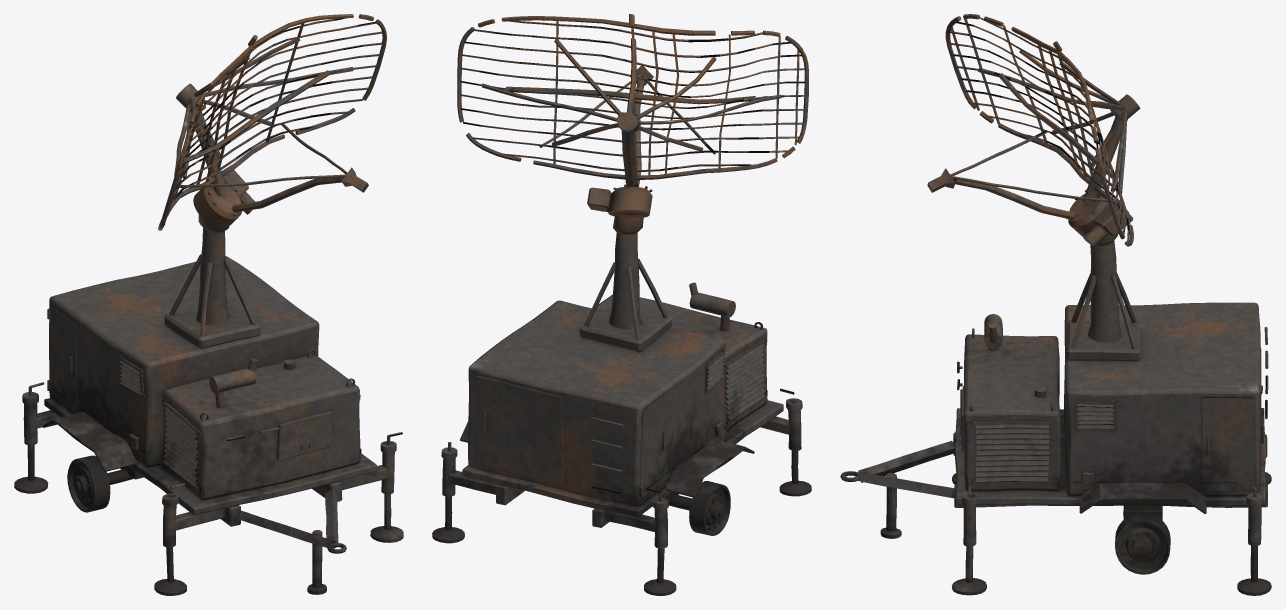
Rendered from Wreck_Radar.fbx.
3 views of the same model, side by side, from view 1: azimuth 30°, elevation 25°; view 2: azimuth 150°, elevation 25°; view 3: azimuth 270°, elevation 25° (orthographic). The views are drawn at different scales.
Parts seen in each view (by area): view 1: Wreck_Radar_Mesh; view 2: Wreck_Radar_Mesh; view 3: Wreck_Radar_Mesh.
Boxes of the visible parts, left/top/right/bottom form: Wreck_Radar_Mesh: left=14, top=14, right=403, bottom=595; Wreck_Radar_Mesh: left=432, top=14, right=811, bottom=595; Wreck_Radar_Mesh: left=840, top=14, right=1271, bottom=595.
Size of the model in its own units: 2.66 by 4.23 by 3.29.
